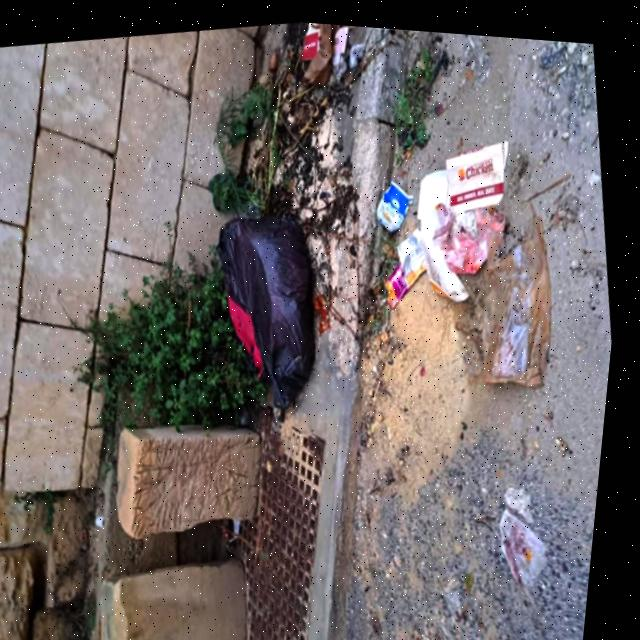Mixed Waste -Black Bag-: (203, 195, 344, 420)
Other: (358, 117, 543, 316), (459, 195, 581, 388), (503, 490, 569, 584), (294, 18, 338, 71)
